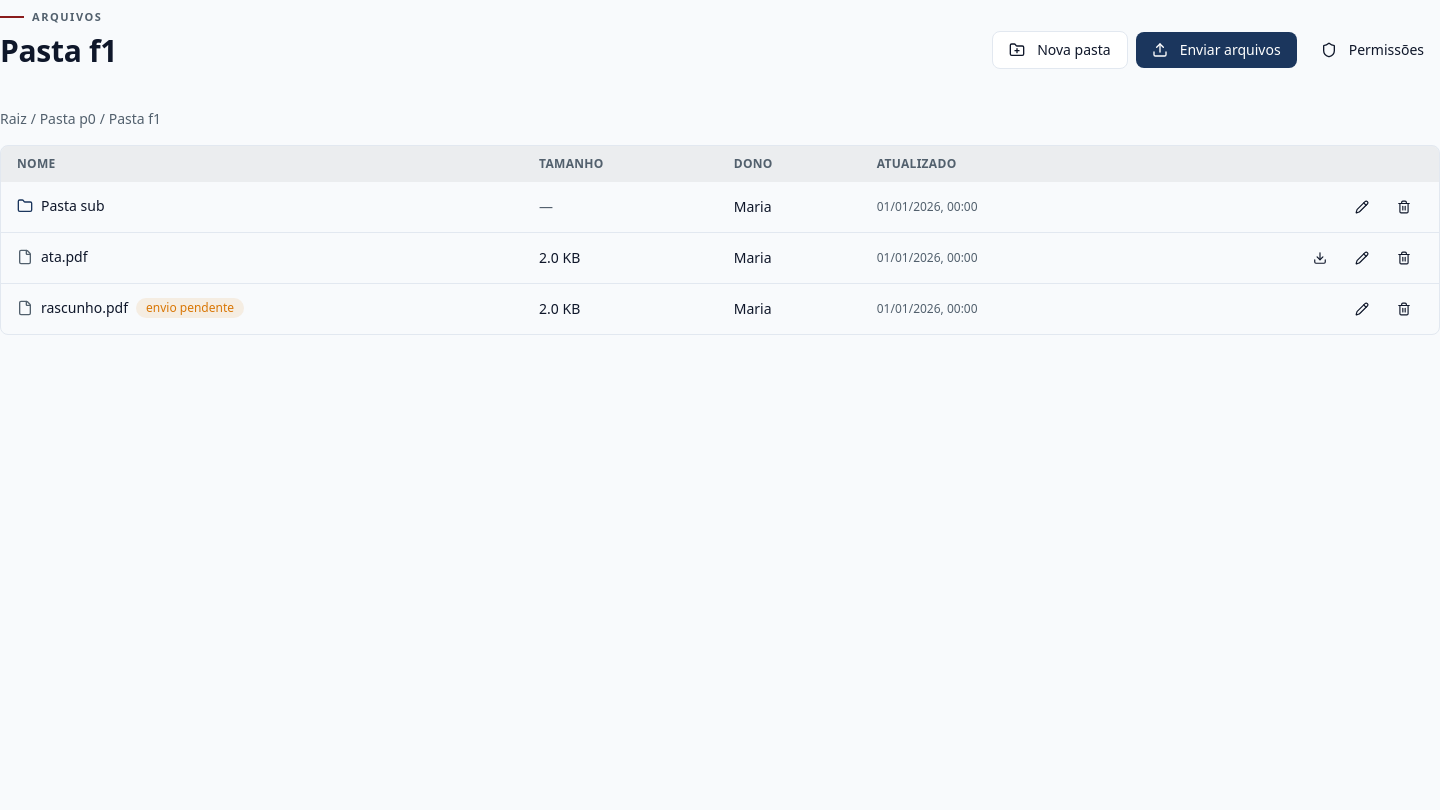
Test case: Arquivos — dentro de uma pasta › pasta sem entradas é privada
Step 1. Click the button "Permissões" → (1372, 50), box [1305, 32, 1439, 68]
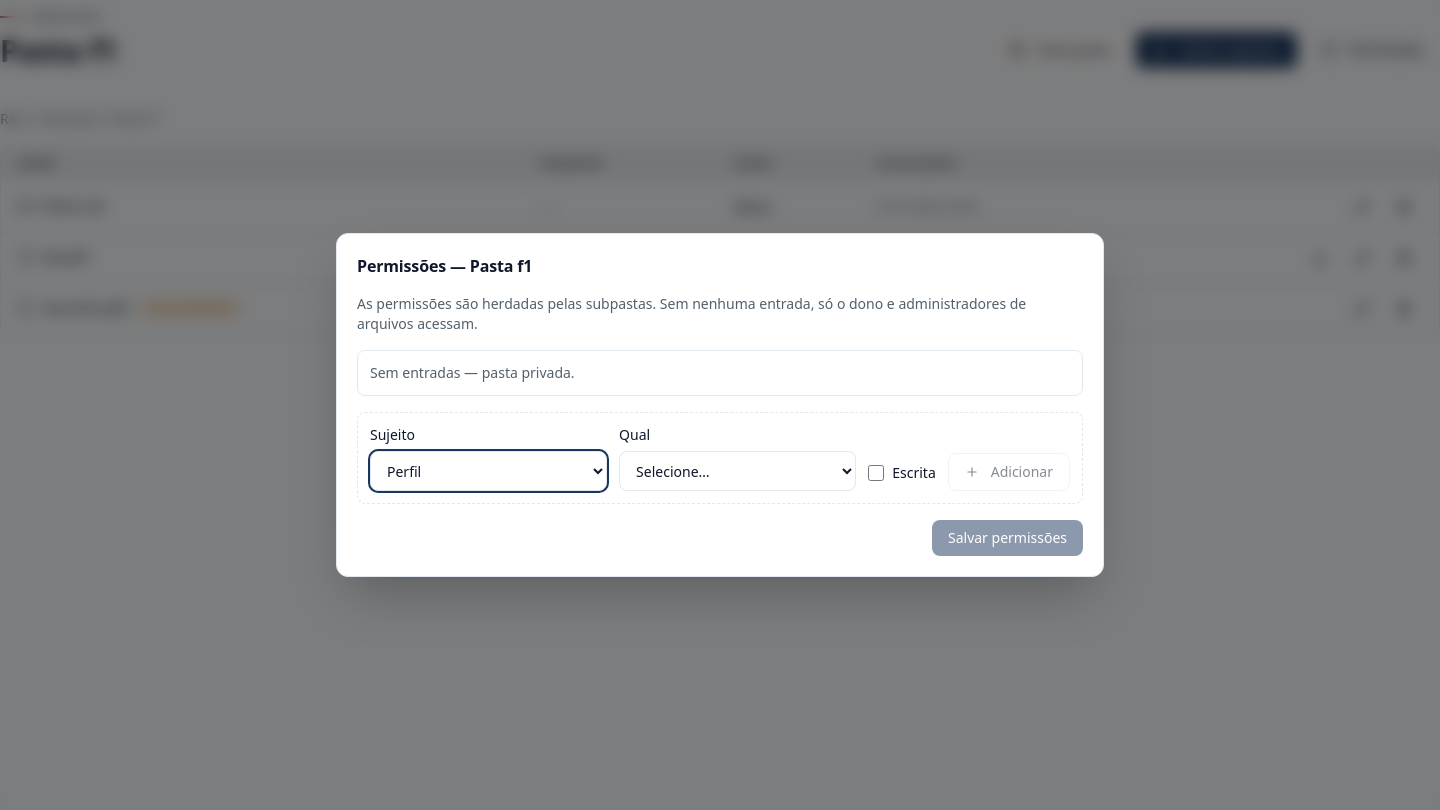
Check: the list item "Sem entradas — pasta privada." is shown, box [370, 363, 575, 382]
